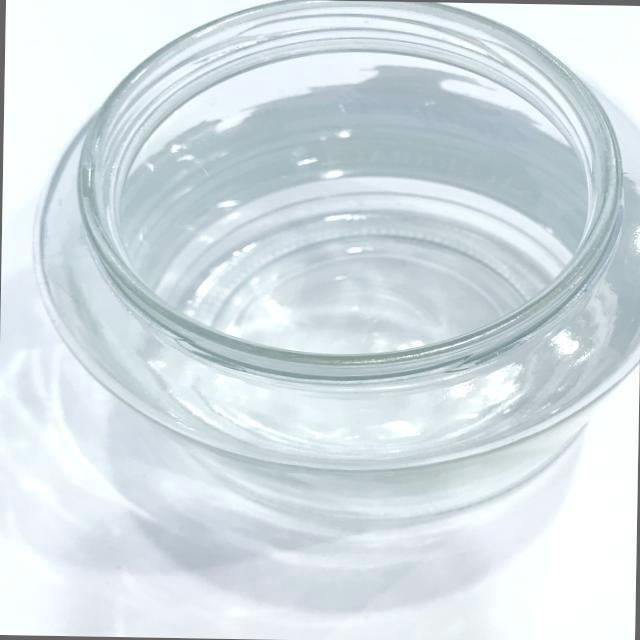glass: (17, 0, 640, 566)
